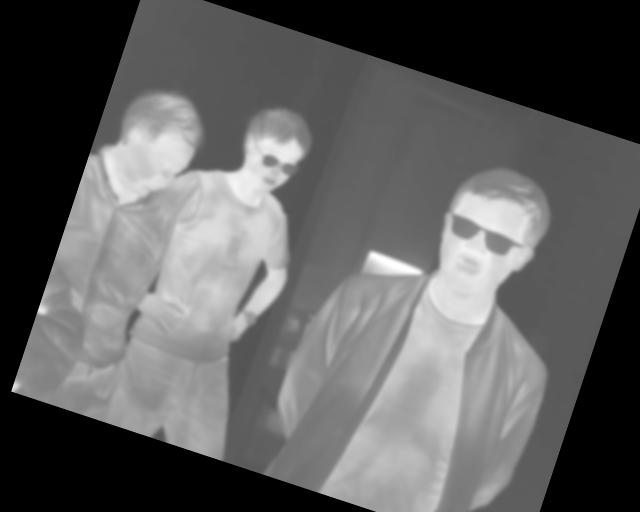face: (422, 151, 562, 314), (99, 75, 215, 212), (227, 96, 321, 201)
